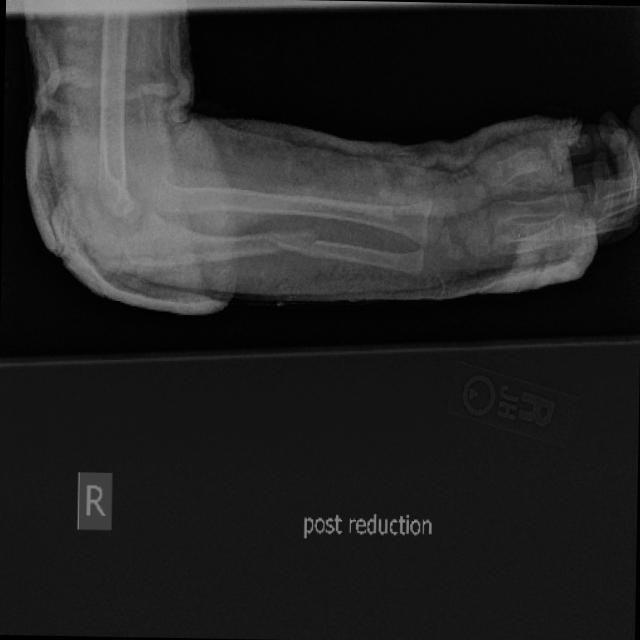forearm fracture: (259, 211, 356, 286)
